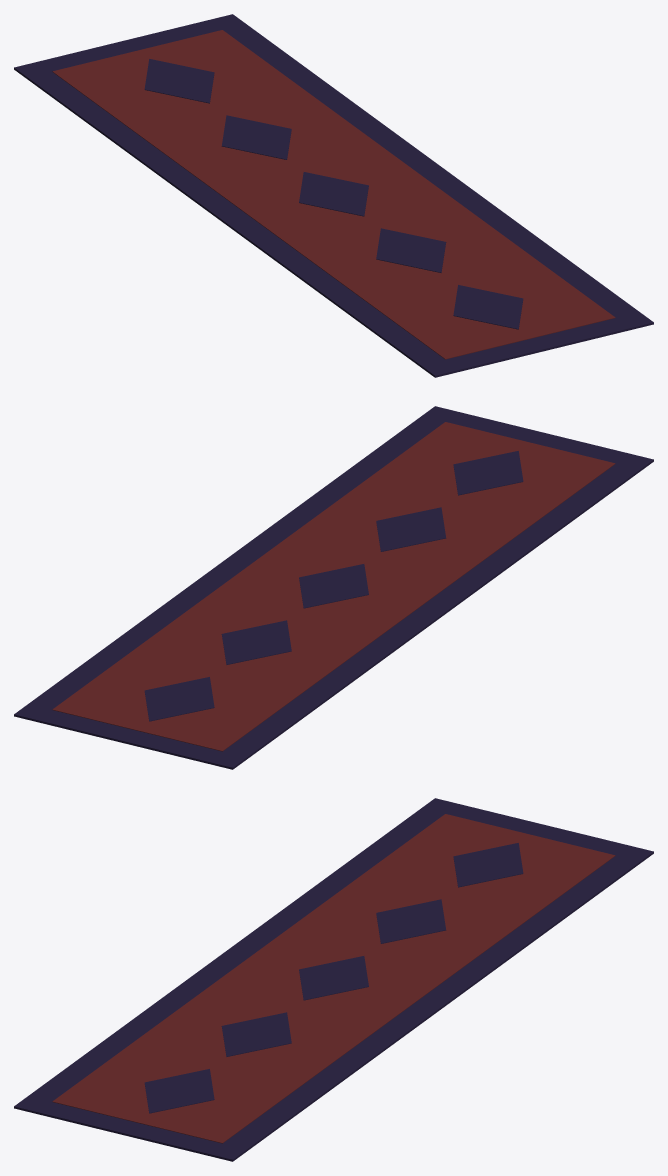
The model's file is runner.glb.
3 views of the same model, one above another, from view 1: azimuth 30°, elevation 25°; view 2: azimuth 150°, elevation 25°; view 3: azimuth 330°, elevation 25° (orthographic).
Parts seen in each view (by area): view 1: runner; view 2: runner; view 3: runner.
Boxes of the visible parts, bbox=[...] form: runner: bbox=[14, 14, 653, 377]; runner: bbox=[14, 406, 653, 769]; runner: bbox=[14, 798, 653, 1161].
Bounding box in the file's own units: 0.9 × 0.012 × 3.
